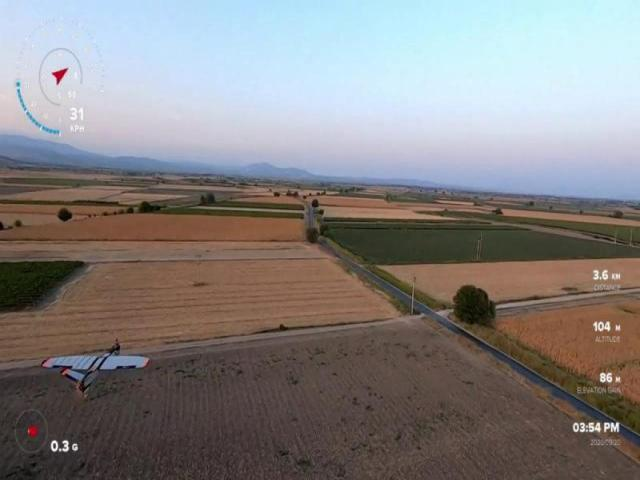hedef: (40, 338, 154, 403)
